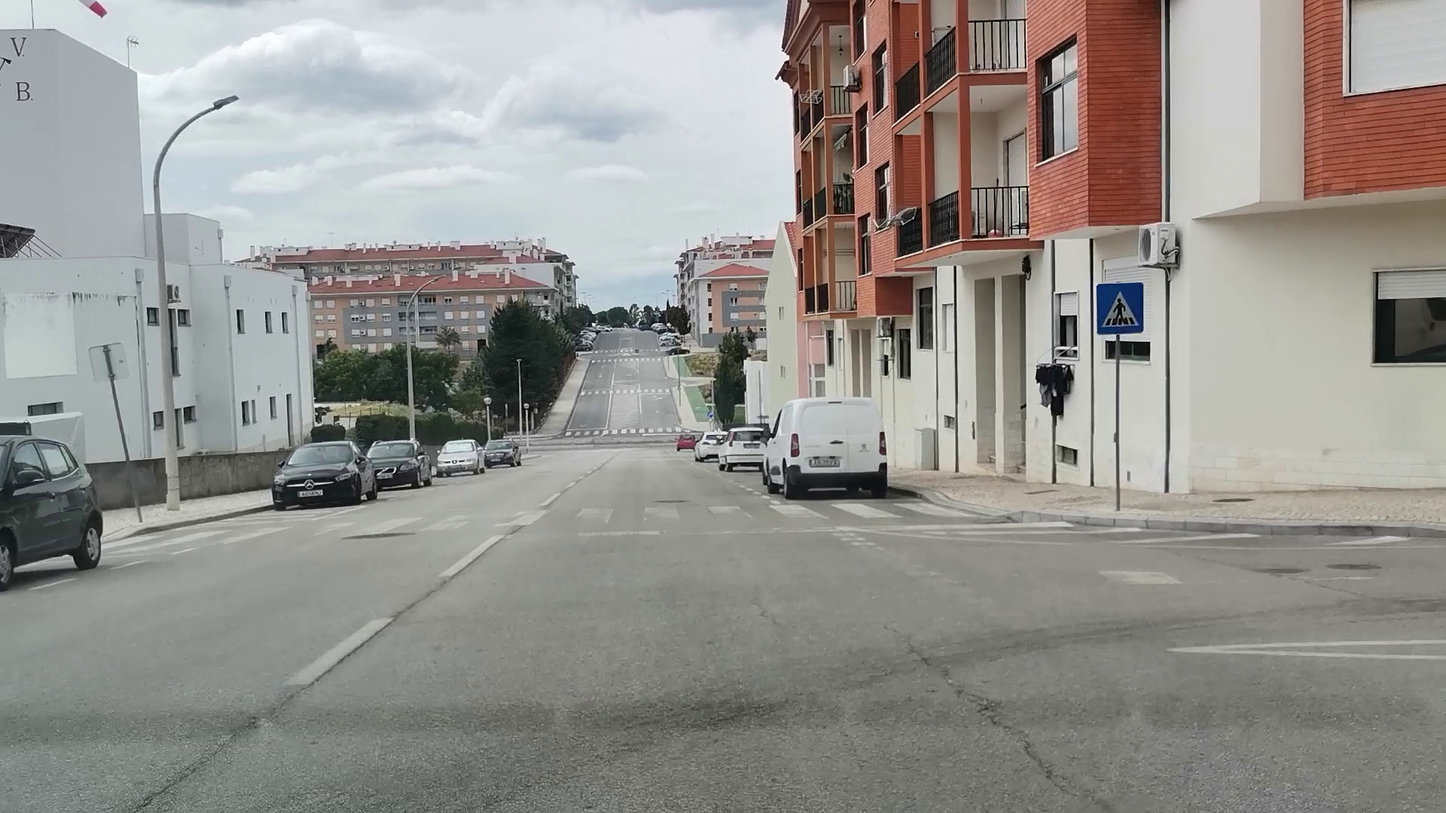Stairs: (127, 497, 970, 539)
